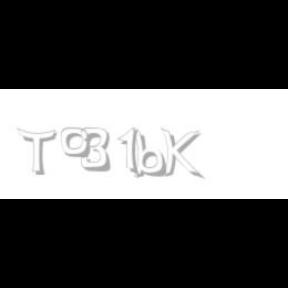1: (117, 128, 139, 176)
3: (80, 128, 112, 172)
K: (161, 128, 201, 180)
T: (17, 128, 57, 176)
b: (132, 128, 170, 178)
o: (61, 128, 90, 158)
